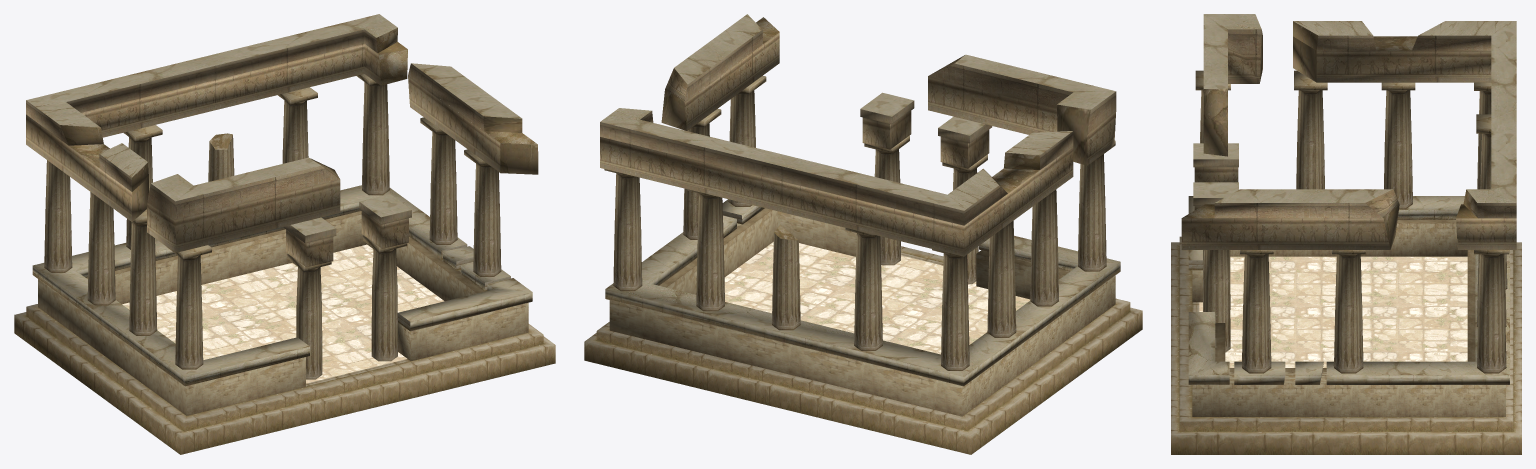
The model's file is pharaoh_ruin.glb.
3 renders of one model, left to right at view 1: azimuth 30°, elevation 25°; view 2: azimuth 150°, elevation 25°; view 3: azimuth 270°, elevation 25°, orthographic. The views are drawn at different scales.
Parts seen in each view (by area): view 1: ST_field_ruin01_02, ST_field_ruin01_03, ST_field_ruin01_01, ST_field_ruin01_04; view 2: ST_field_ruin01_02, ST_field_ruin01_03, ST_field_ruin01_01, ST_field_ruin01_04; view 3: ST_field_ruin01_02, ST_field_ruin01_03, ST_field_ruin01_01, ST_field_ruin01_04.
Part boxes in pixels (left/top/right/bottom): ST_field_ruin01_02: left=14, top=28, right=555, bottom=454; ST_field_ruin01_03: left=26, top=14, right=532, bottom=415; ST_field_ruin01_01: left=44, top=74, right=501, bottom=379; ST_field_ruin01_04: left=122, top=244, right=444, bottom=383; ST_field_ruin01_02: left=584, top=17, right=1142, bottom=454; ST_field_ruin01_03: left=600, top=14, right=1120, bottom=416; ST_field_ruin01_01: left=604, top=76, right=1115, bottom=370; ST_field_ruin01_04: left=724, top=242, right=1030, bottom=354; ST_field_ruin01_02: left=1171, top=21, right=1521, bottom=454; ST_field_ruin01_03: left=1188, top=14, right=1516, bottom=416; ST_field_ruin01_01: left=1195, top=70, right=1509, bottom=373; ST_field_ruin01_04: left=1199, top=256, right=1467, bottom=367.
Size of the model in its own units: 15.9 by 9.71 by 12.2.
4 materials, 4 textured.
